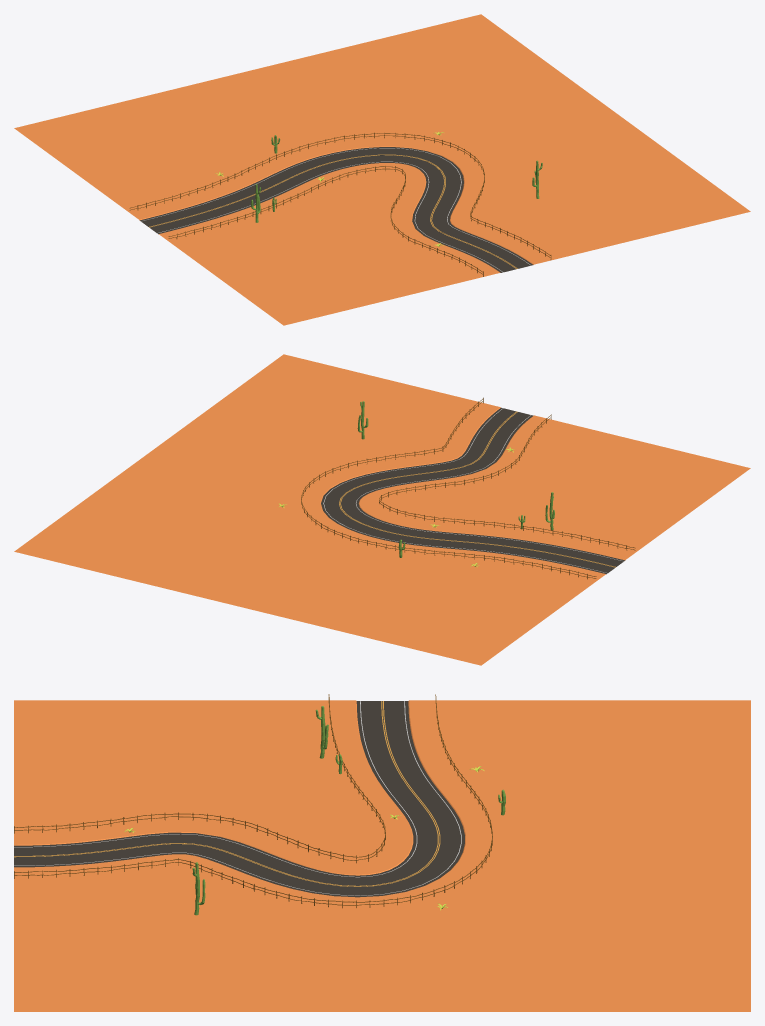
Rendered from DesertRoadRight6.fbx.
3 renders of one model, top to bottom at view 1: azimuth 30°, elevation 25°; view 2: azimuth 150°, elevation 25°; view 3: azimuth 270°, elevation 25°, orthographic. The views are drawn at different scales.
Parts seen in each view (by area): view 1: DRR6Road, DRR6WoodFenceRight, DRR6WoodFenceLeft; view 2: DRR6Road, DRR6WoodFenceRight, DRR6WoodFenceLeft; view 3: DRR6Road, DRR6WoodFenceRight, DRR6WoodFenceLeft.
Part boxes in pixels (bbox=[...]): DRR6Road: bbox=[14, 14, 750, 325]; DRR6WoodFenceRight: bbox=[129, 132, 551, 259]; DRR6WoodFenceLeft: bbox=[168, 166, 483, 276]; DRR6Road: bbox=[14, 354, 750, 665]; DRR6WoodFenceRight: bbox=[301, 397, 596, 579]; DRR6WoodFenceLeft: bbox=[379, 414, 635, 550]; DRR6Road: bbox=[14, 700, 750, 1011]; DRR6WoodFenceRight: bbox=[14, 694, 492, 908]; DRR6WoodFenceLeft: bbox=[14, 694, 385, 863].
Size of what is drawn, in the model's own units: 20000 by 1581 by 20001.
